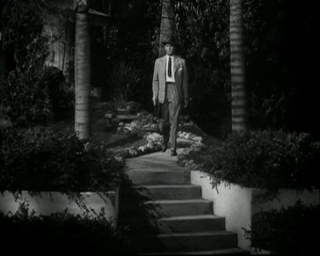els: (1, 1, 320, 256)
face: (164, 42, 175, 55)
person: (152, 40, 187, 157)
